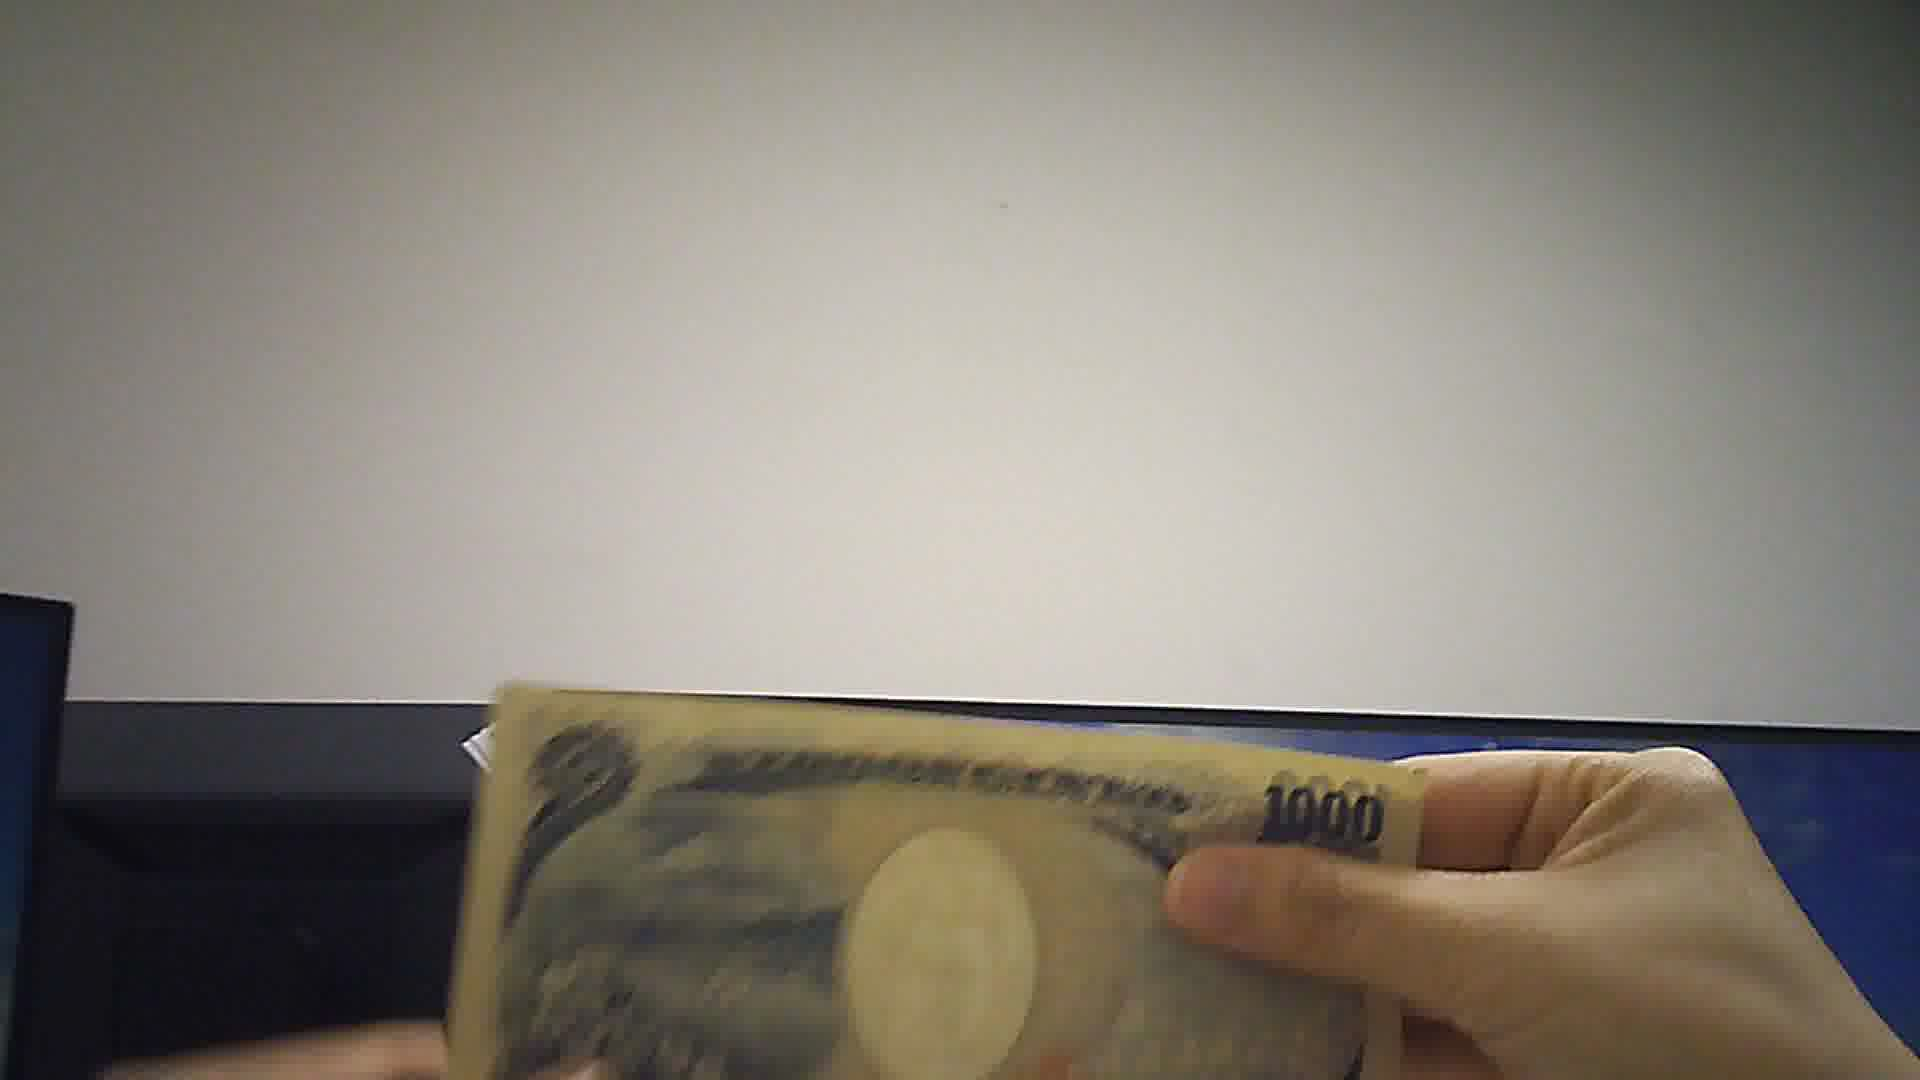1,000 Yen: (450, 665, 1407, 1076)
